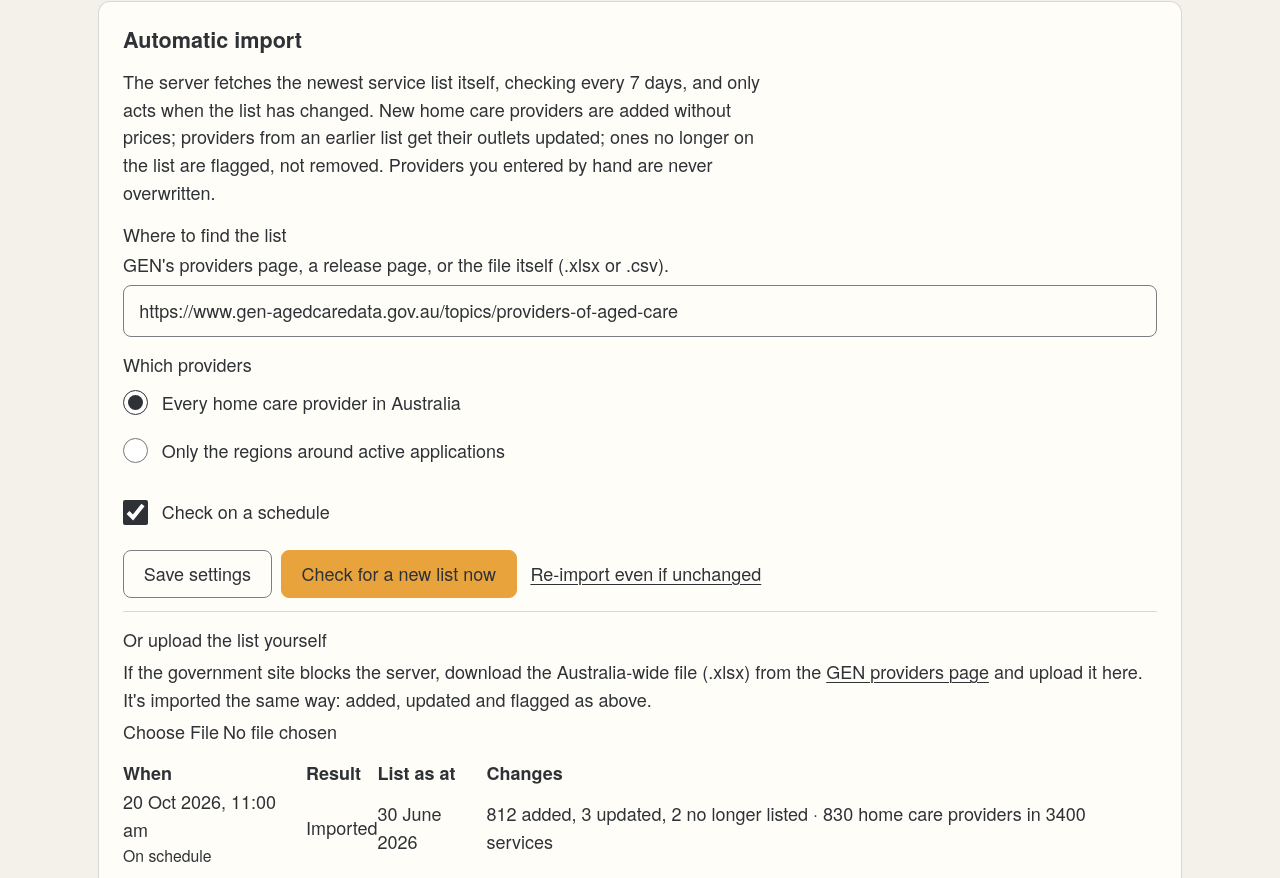
automatic import of the government list › shows recent imports, saves settings and starts a check
(page scrolled)
Expected: the text "checking every 7 days" is shown, x1=495 y1=68 x2=682 y2=94
Expected: the text "812 added, 3 updated, 2 no longer listed · 830 home care providers" is shown, x1=486 y1=800 x2=1086 y2=854
Click the radio button labelled "Only the regions around active applications" at (136, 451), box x1=123 y1=438 x2=148 y2=463
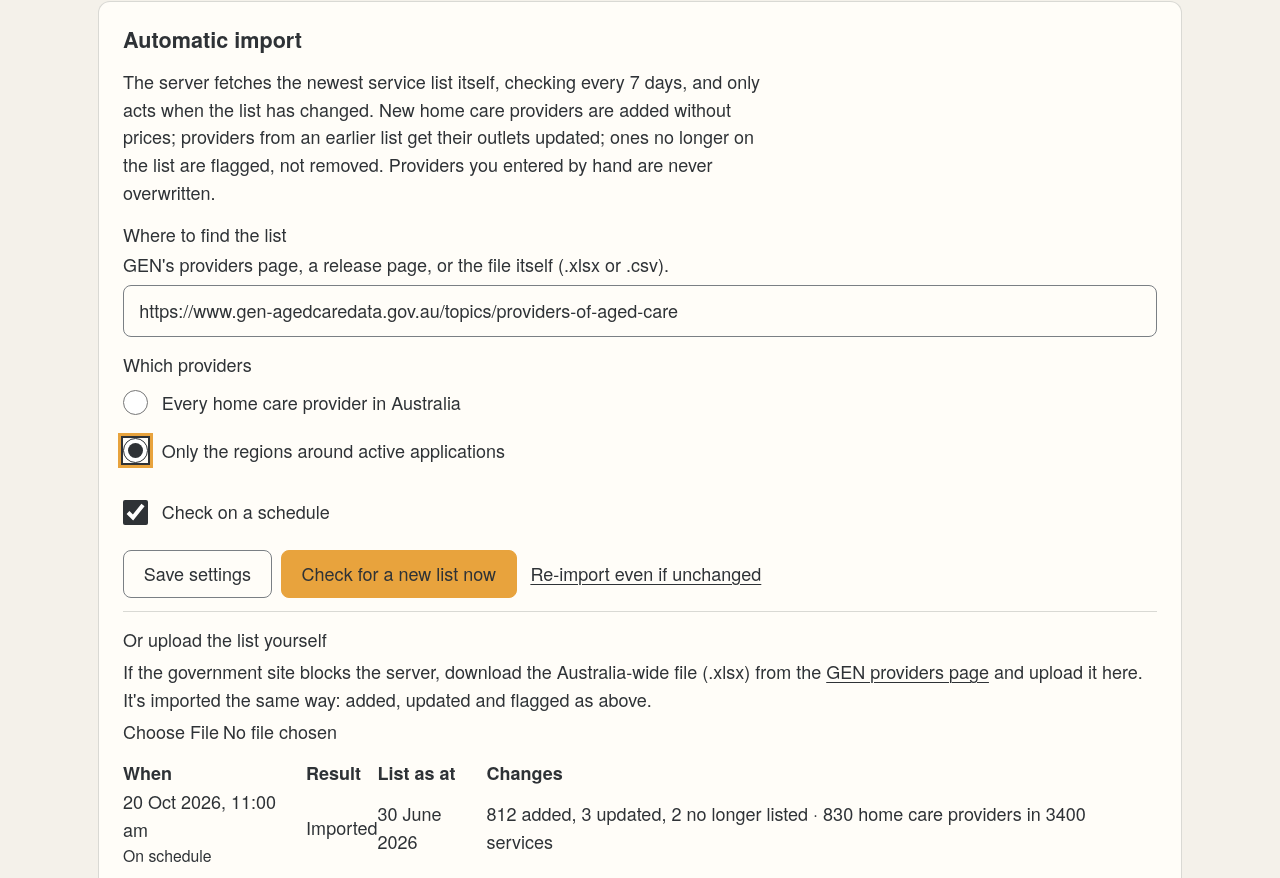
Click the button "Save settings" at (197, 574), box x1=123 y1=550 x2=272 y2=598
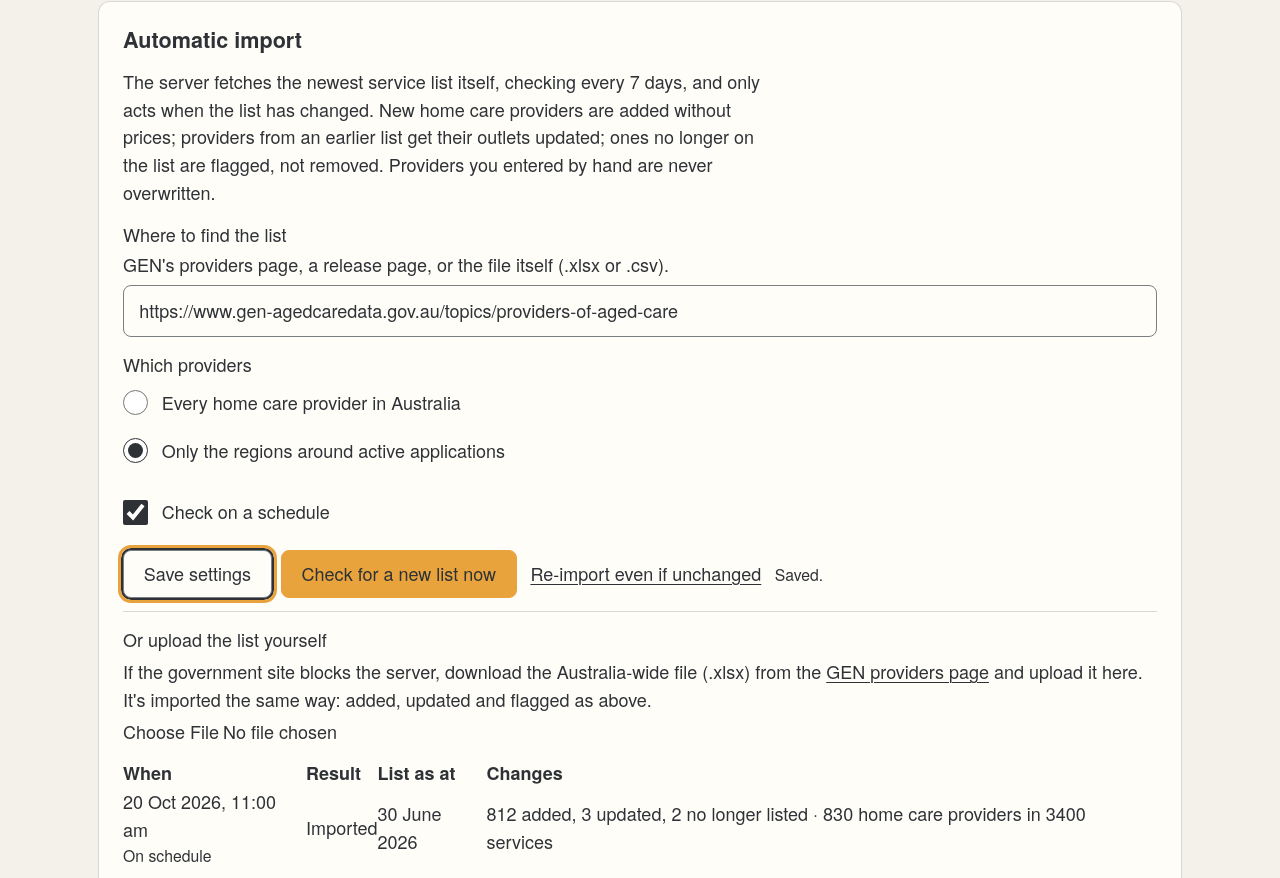
Click the button "Check for a new list now" at (399, 574), box x1=281 y1=550 x2=517 y2=598
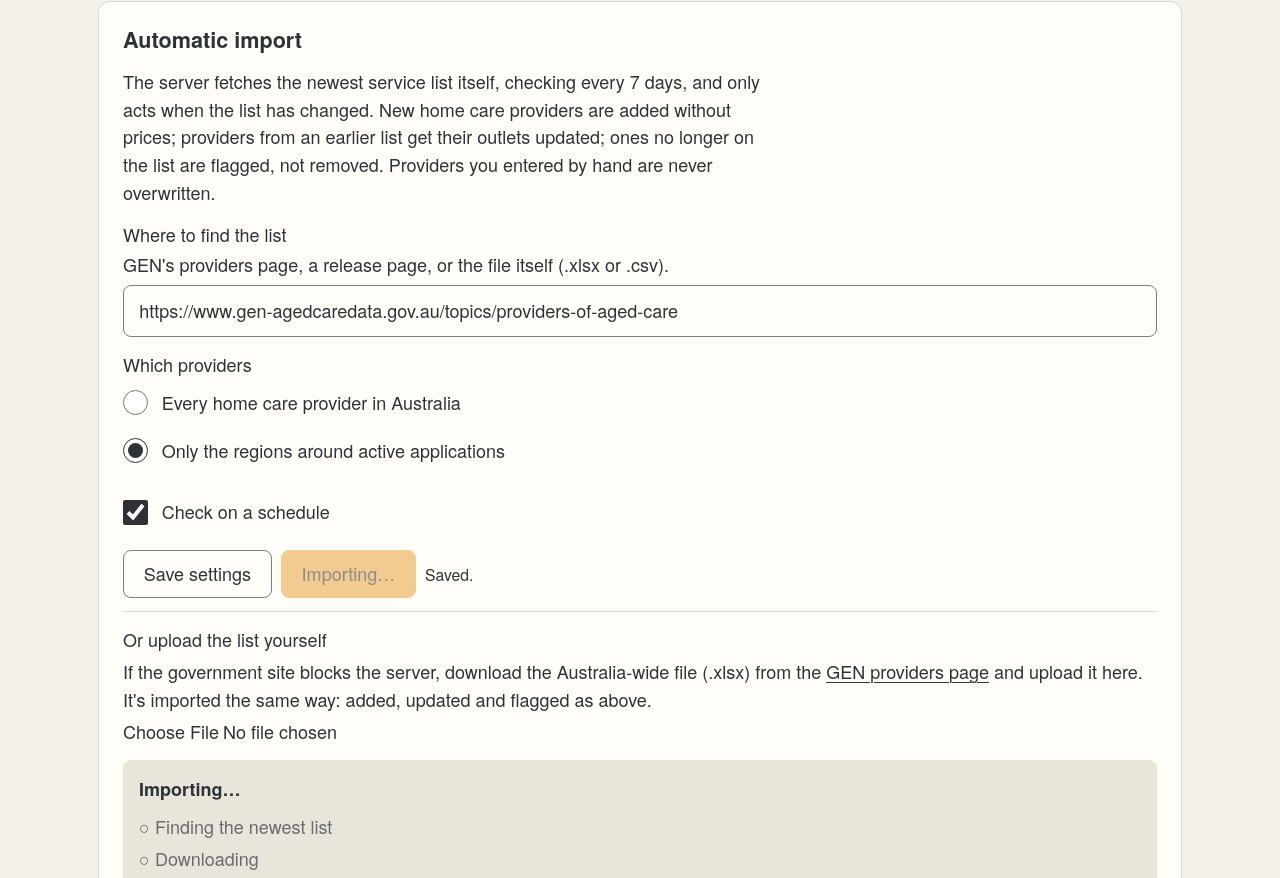
Expected: the button "Importing…" is disabled, x1=281 y1=550 x2=416 y2=598
